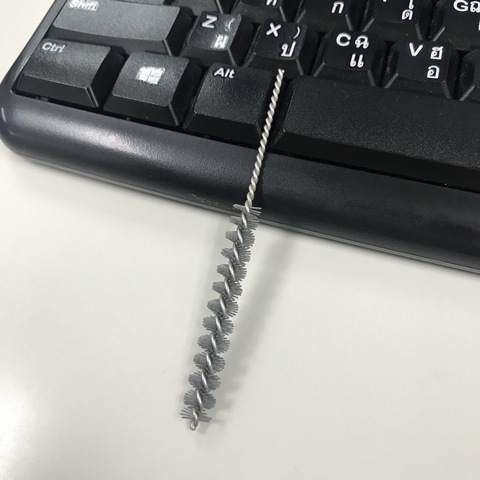Twist Brush-A: (177, 65, 289, 434)
